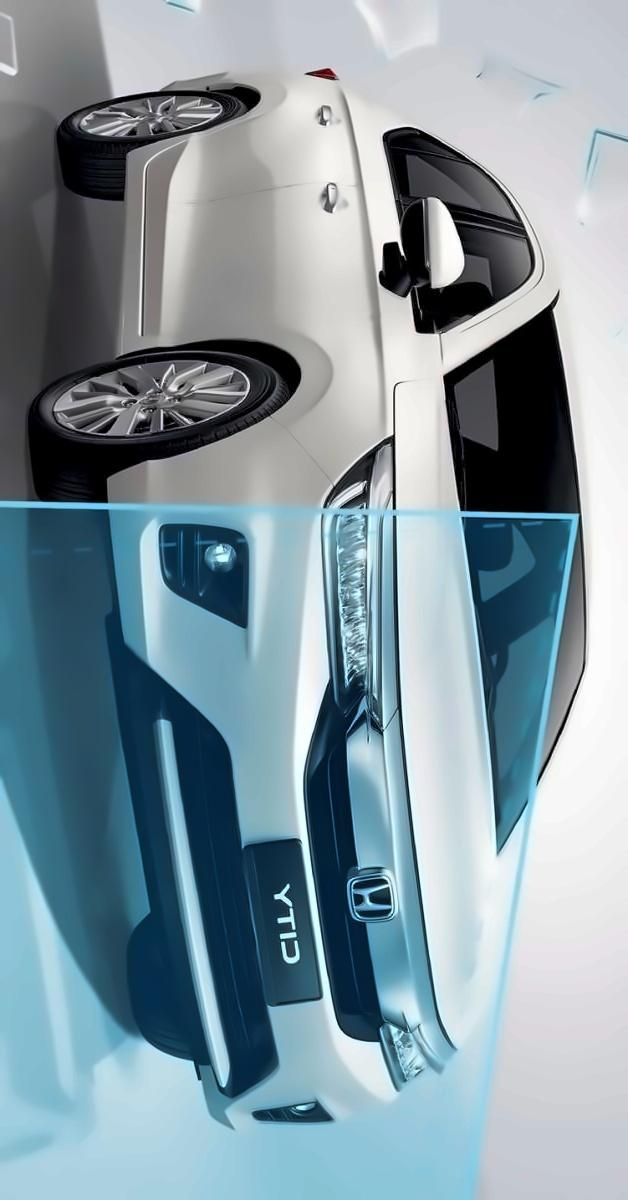Car hood: (356, 374, 509, 1083)
Driver-s door - -F-R-: (90, 178, 545, 379)
Front bumper: (95, 395, 399, 1161)
Headlight - -L-: (376, 1018, 465, 1099)
Headlight - -R-: (316, 430, 406, 733)
Passenger-s door - -R-L-: (110, 99, 557, 235)
Side bumper - -R-: (92, 130, 200, 377)
